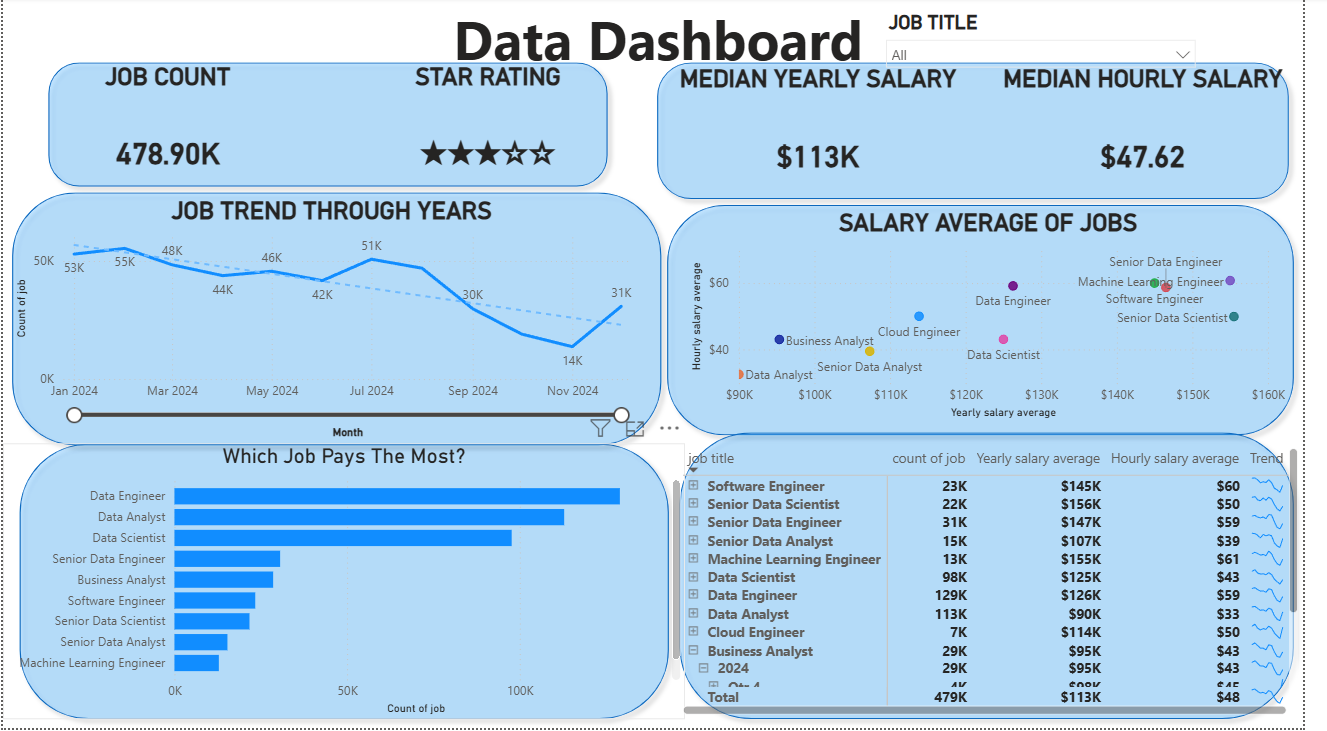

The page's visual inventory and layout, read from the dashboard file:
{"tool":"powerbi","page":{"name":"Data Dashboard","canvas":[1280,720],"ordinal":0},"visuals":[{"type":"shape","box":[0,0,1280,720],"z":1000},{"type":"shape","box":[35.7,55.4,568.6,140.3],"z":2000},{"type":"shape","box":[644.9,195.7,635.1,244.9],"z":2500},{"type":"shape","box":[657.2,419.7,622.8,300.3],"z":3000},{"type":"shape","box":[7.4,430.8,657.2,289.2],"z":3500},{"type":"shape","box":[635.1,55.4,640,152.6],"z":4000},{"type":"shape","box":[0,183.4,657.2,267.1],"z":5000},{"type":"textbox","box":[9.8,0,1270.5,81.9],"z":6000},{"type":"card","title":"JOB COUNT","fields":{"Values":["CountNonNull(job_postings_flat.job_title_short)"]},"box":[0,64,324.9,150.2],"z":7000},{"type":"card","title":"STAR RATING","fields":{"Values":["job_postings_flat.Median of salary_year_avg star rating"]},"box":[320,64,315.1,150.2],"z":8000},{"type":"card","title":"MEDIAN YEARLY SALARY","fields":{"Values":["Median(job_postings_flat.salary_year_avg)"]},"box":[640,66.5,324.9,150.2],"z":9000},{"type":"card","title":"MEDIAN HOURLY SALARY","fields":{"Values":["Median(job_postings_flat.salary_hour_avg)"]},"box":[964.9,66.5,315.1,150.2],"z":10000},{"type":"slicer","fields":{"Values":["job_postings_flat.job_title_short"]},"box":[859.1,8.6,324.9,73.8],"z":11000},{"type":"lineChart","title":"JOB TREND THROUGH YEARS","fields":{"Y":["CountNonNull(job_postings_flat.job_title_short)"],"Category":["job_postings_flat.job_posted_date.Variation.Date Hierarchy.Year","job_postings_flat.job_posted_date.Variation.Date Hierarchy.Quarter","job_postings_flat.job_posted_date.Variation.Date Hierarchy.Month","job_postings_flat.job_posted_date.Variation.Date Hierarchy.Day"]},"box":[7.4,195.7,632.6,243.7],"z":12000},{"type":"barChart","title":"Which Job Pays The Most?","fields":{"Category":["job_postings_flat.job_title_short"],"Y":["CountNonNull(job_postings_flat.job_title_short)"]},"box":[0,439.4,672,272],"z":13000},{"type":"pivotTable","fields":{"Values":["CountNonNull(job_postings_flat.job_title_short)","Median(job_postings_flat.salary_year_avg)","Median(job_postings_flat.salary_hour_avg)","SparklineData(CountNonNull(job_postings_flat.job_title_short)_[job_postings_flat.job_posted_date.Variation.Date Hierarch"],"Rows":["job_postings_flat.job_title_short","job_postings_flat.job_posted_date.Variation.Date Hierarchy.Year","job_postings_flat.job_posted_date.Variation.Date Hierarchy.Quarter","job_postings_flat.job_posted_date.Variation.Date Hierarchy.Month","job_postings_flat.job_posted_date.Variation.Date Hierarchy.Day"]},"box":[664.6,439.4,615.4,272],"z":14000},{"type":"scatterChart","title":"SALARY AVERAGE OF JOBS","fields":{"X":["Median(job_postings_flat.salary_year_avg)"],"Y":["Median(job_postings_flat.salary_hour_avg)"],"Series":["job_postings_flat.job_title_short"]},"box":[672,208,595.7,211.7],"z":15000}]}

Visuals, with their boxes in screenshot pixels (x1, y1, x2, y2), scaled from the page's 1280x720 canvas onto the 1327x731 screenshot:
shape: [x1=0, y1=0, x2=1326, y2=730]
shape: [x1=37, y1=56, x2=626, y2=199]
shape: [x1=669, y1=199, x2=1326, y2=447]
shape: [x1=681, y1=426, x2=1326, y2=730]
shape: [x1=8, y1=437, x2=689, y2=730]
shape: [x1=658, y1=56, x2=1322, y2=211]
shape: [x1=0, y1=186, x2=681, y2=457]
textbox: [x1=10, y1=0, x2=1326, y2=83]
"JOB COUNT" card: [x1=0, y1=65, x2=337, y2=217]
"STAR RATING" card: [x1=332, y1=65, x2=658, y2=217]
"MEDIAN YEARLY SALARY" card: [x1=664, y1=68, x2=1000, y2=220]
"MEDIAN HOURLY SALARY" card: [x1=1000, y1=68, x2=1326, y2=220]
slicer - job_postings_flat.job_title_short: [x1=891, y1=9, x2=1227, y2=84]
"JOB TREND THROUGH YEARS" lineChart: [x1=8, y1=199, x2=664, y2=446]
"Which Job Pays The Most?" barChart: [x1=0, y1=446, x2=697, y2=722]
pivotTable - CountNonNull(job_postings_flat.job_title_short) x Median(job_postings_flat.salary_year_avg): [x1=689, y1=446, x2=1326, y2=722]
"SALARY AVERAGE OF JOBS" scatterChart: [x1=697, y1=211, x2=1314, y2=426]
